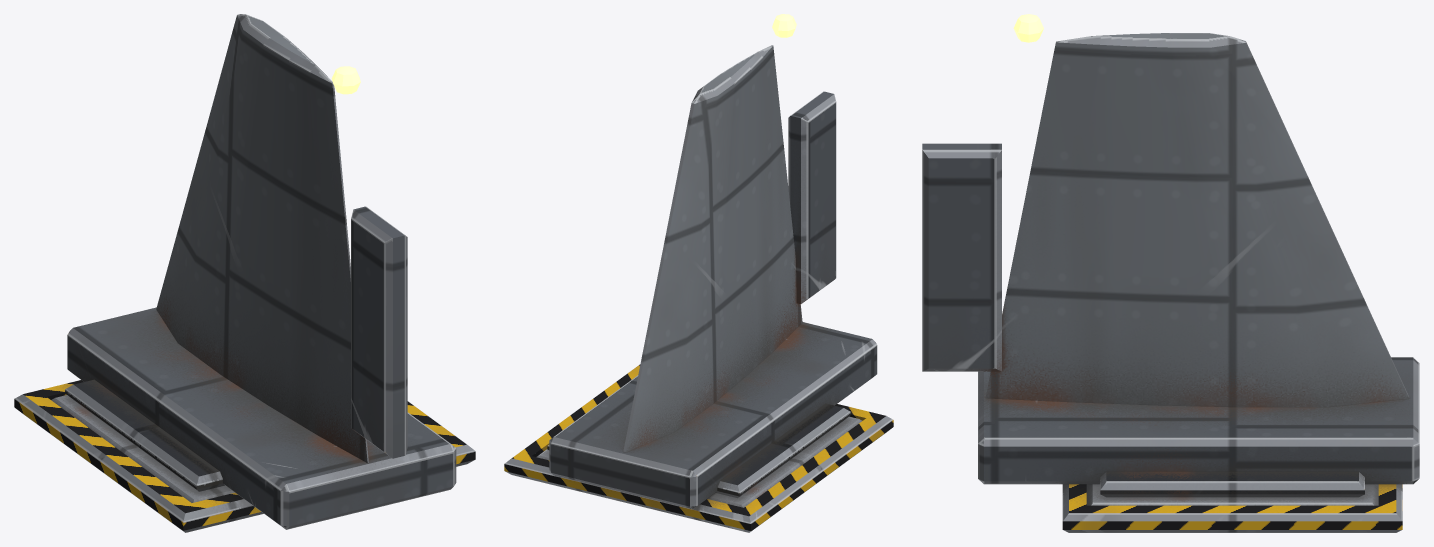
File: estabilizador_vertical_t1.fbx
3 renders of one model, left to right at view 1: azimuth 30°, elevation 25°; view 2: azimuth 150°, elevation 25°; view 3: azimuth 270°, elevation 25°, orthographic. The views are drawn at different scales.
Visible parts, largest first — view 1: estabilizador_vertical_t1, estabilizador_vertical_t1_neon2; view 2: estabilizador_vertical_t1, estabilizador_vertical_t1_neon2; view 3: estabilizador_vertical_t1, estabilizador_vertical_t1_neon2.
Boxes of the visible parts, box(x1,y1,x2,y2) form: estabilizador_vertical_t1: box(14, 14, 475, 532); estabilizador_vertical_t1_neon2: box(331, 66, 360, 94); estabilizador_vertical_t1: box(504, 45, 893, 532); estabilizador_vertical_t1_neon2: box(772, 14, 796, 37); estabilizador_vertical_t1: box(922, 33, 1419, 532); estabilizador_vertical_t1_neon2: box(1013, 14, 1043, 42).
Bounding box in the file's own units: 2 × 2.98 × 2.93.
